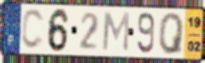2: (79, 12, 101, 52)
6: (46, 7, 71, 54)
9: (137, 12, 156, 55)
C: (20, 7, 46, 51)
M: (101, 11, 131, 53)
Q: (158, 12, 186, 56)
